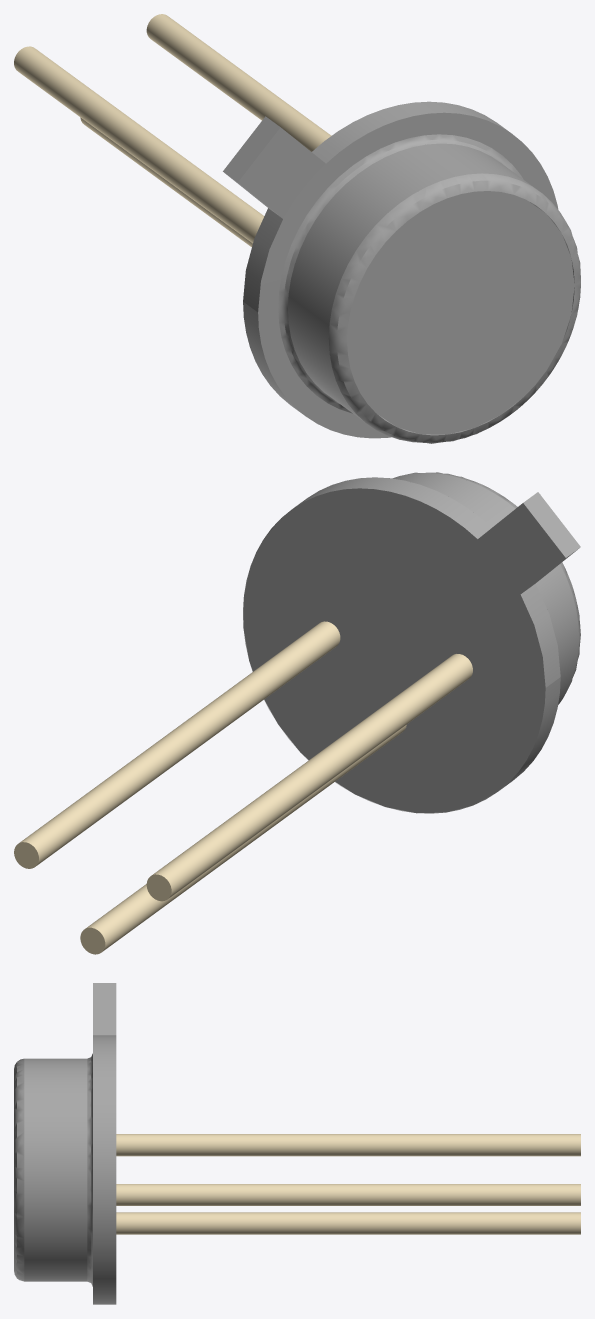
3 renders of one model, top to bottom at view 1: azimuth 30°, elevation 25°; view 2: azimuth 150°, elevation 25°; view 3: azimuth 270°, elevation 25°, orthographic. The views are drawn at different scales.
Visible parts, largest first — view 1: Shape_IndexedFaceSet.019, Shape_IndexedFaceSet.014, Shape_IndexedFaceSet.008, Shape_IndexedFaceSet.018, Shape_IndexedFaceSet.012, Shape_IndexedFaceSet.011, Shape_IndexedFaceSet.010, Shape_IndexedFaceSet.004, Shape_IndexedFaceSet.006, Shape_IndexedFaceSet.005, Shape_IndexedFaceSet, Shape_IndexedFaceSet.013; view 2: Shape_IndexedFaceSet.009, Shape_IndexedFaceSet.011, Shape_IndexedFaceSet.012, Shape_IndexedFaceSet.007, Shape_IndexedFaceSet.014, Shape_IndexedFaceSet.006, Shape_IndexedFaceSet.003, Shape_IndexedFaceSet.013, Shape_IndexedFaceSet.005, Shape_IndexedFaceSet; view 3: Shape_IndexedFaceSet.014, Shape_IndexedFaceSet.012, Shape_IndexedFaceSet.013, Shape_IndexedFaceSet.011, Shape_IndexedFaceSet.006, Shape_IndexedFaceSet.018, Shape_IndexedFaceSet.010, Shape_IndexedFaceSet.002.
Boxes of the visible parts, x1=… form: Shape_IndexedFaceSet.019: x1=347, y1=191, x2=574, y2=434; Shape_IndexedFaceSet.014: x1=288, y1=143, x2=574, y2=435; Shape_IndexedFaceSet.008: x1=258, y1=112, x2=558, y2=438; Shape_IndexedFaceSet.018: x1=328, y1=173, x2=580, y2=443; Shape_IndexedFaceSet.012: x1=14, y1=46, x2=264, y2=243; Shape_IndexedFaceSet.011: x1=146, y1=14, x2=331, y2=151; Shape_IndexedFaceSet.010: x1=278, y1=134, x2=523, y2=413; Shape_IndexedFaceSet.004: x1=238, y1=127, x2=325, y2=218; Shape_IndexedFaceSet.006: x1=243, y1=101, x2=510, y2=415; Shape_IndexedFaceSet.005: x1=243, y1=208, x2=282, y2=312; Shape_IndexedFaceSet: x1=223, y1=116, x2=280, y2=182; Shape_IndexedFaceSet.013: x1=80, y1=117, x2=252, y2=247; Shape_IndexedFaceSet.009: x1=243, y1=488, x2=545, y2=813; Shape_IndexedFaceSet.011: x1=20, y1=621, x2=340, y2=866; Shape_IndexedFaceSet.012: x1=151, y1=654, x2=472, y2=898; Shape_IndexedFaceSet.007: x1=373, y1=539, x2=520, y2=678; Shape_IndexedFaceSet.014: x1=392, y1=473, x2=578, y2=704; Shape_IndexedFaceSet.006: x1=243, y1=477, x2=560, y2=813; Shape_IndexedFaceSet.003: x1=478, y1=503, x2=565, y2=594; Shape_IndexedFaceSet.013: x1=85, y1=725, x2=406, y2=951; Shape_IndexedFaceSet.005: x1=520, y1=584, x2=560, y2=687; Shape_IndexedFaceSet: x1=523, y1=492, x2=580, y2=557; Shape_IndexedFaceSet.014: x1=24, y1=1058, x2=87, y2=1281; Shape_IndexedFaceSet.012: x1=116, y1=1134, x2=580, y2=1156; Shape_IndexedFaceSet.013: x1=116, y1=1212, x2=580, y2=1234; Shape_IndexedFaceSet.011: x1=116, y1=1184, x2=580, y2=1205; Shape_IndexedFaceSet.006: x1=93, y1=1035, x2=116, y2=1304; Shape_IndexedFaceSet.018: x1=14, y1=1058, x2=24, y2=1281; Shape_IndexedFaceSet.010: x1=87, y1=1053, x2=92, y2=1286; Shape_IndexedFaceSet.002: x1=93, y1=983, x2=116, y2=1035.
Size of the model in its own units: 2.44 by 2.44 by 4.8.
